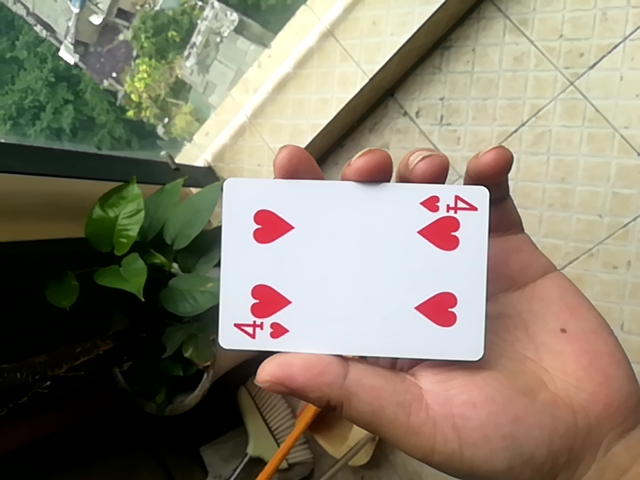hx 4: (220, 175, 494, 361)
